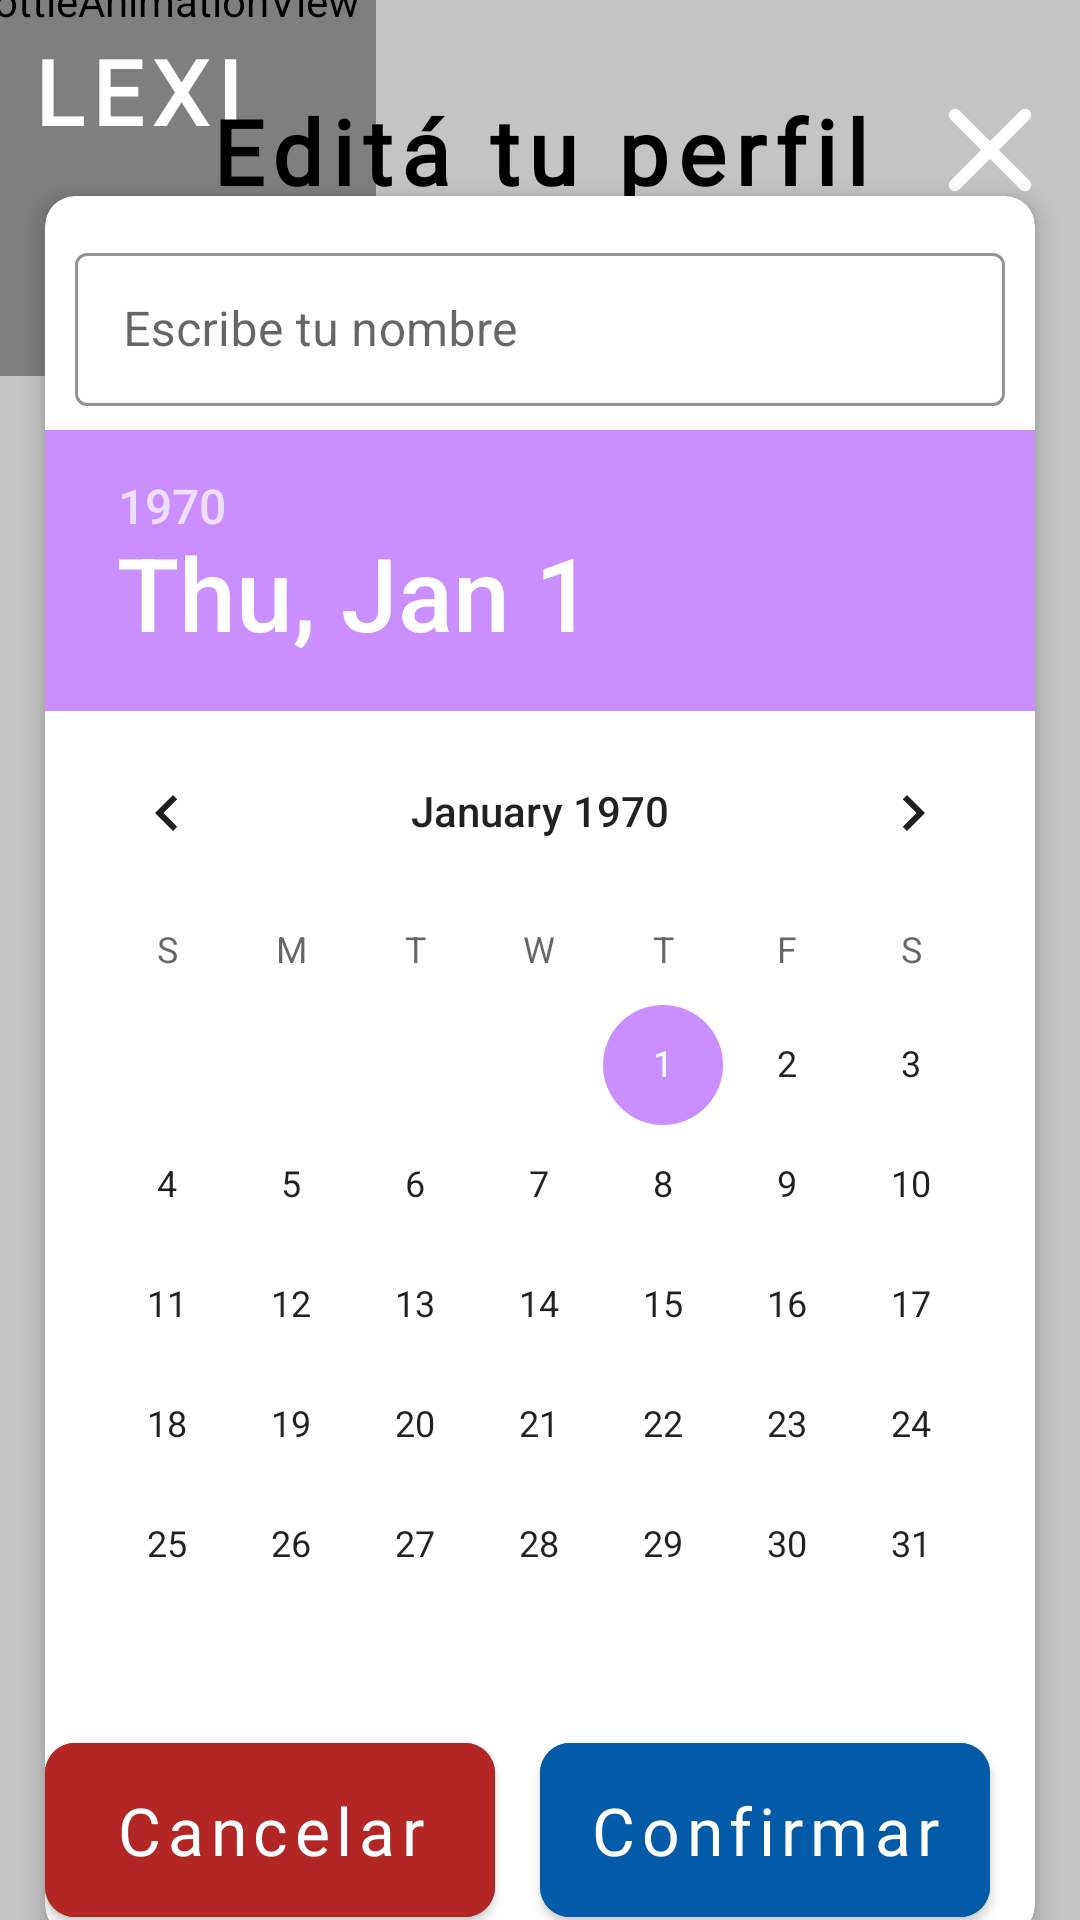

Icon click points for this 1080px x 1920px phone screenshot, format (x=x, y=y):
close: (x=990, y=150)
